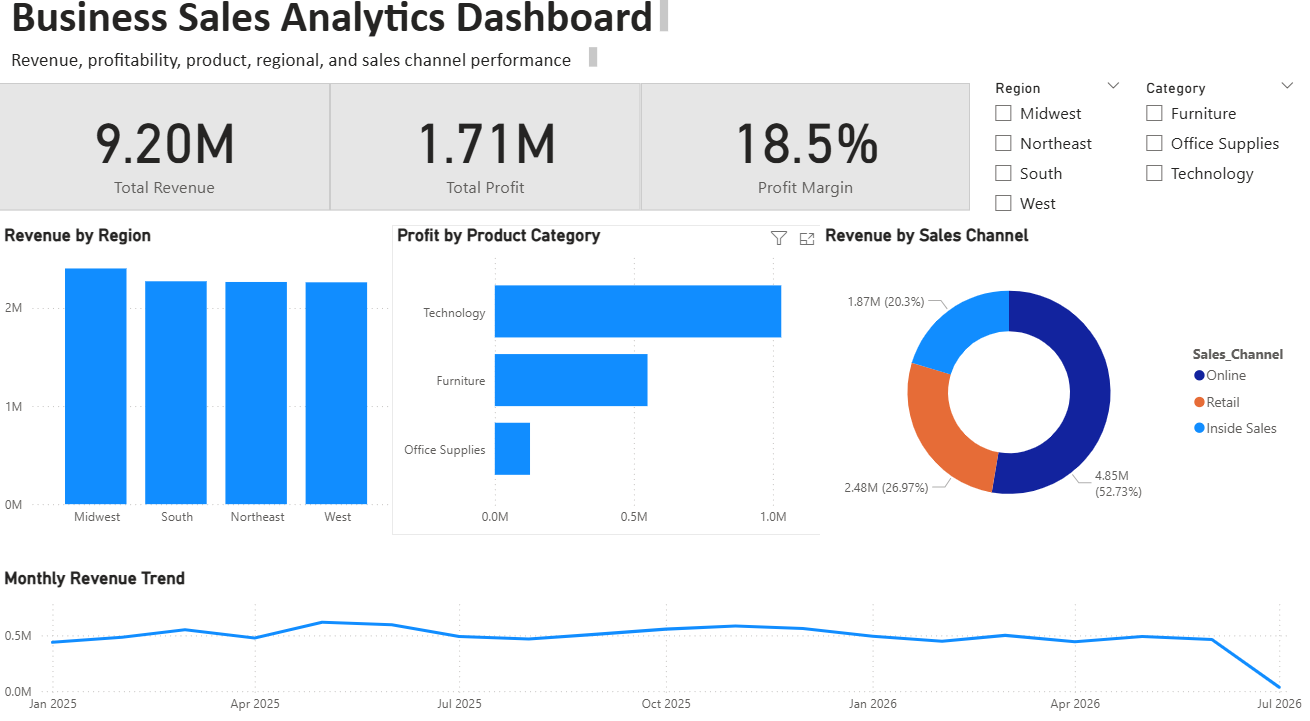

What the dashboard file says about the page in this screenshot:
{"tool":"powerbi","page":{"name":"Page 1","canvas":[1280,720],"ordinal":0},"visuals":[{"type":"card","fields":{"Values":["Sum(sales_transactions.Revenue)"]},"box":[0,98.2,321.9,124.5],"z":0},{"type":"card","fields":{"Values":["Sum(sales_transactions.Profit)"]},"box":[321.9,98.2,302.5,124.5],"z":1000},{"type":"card","fields":{"Values":["sales_transactions.Profit Margin"]},"box":[624.4,98.2,320,124.5],"z":2000},{"type":"clusteredColumnChart","title":"Revenue by Region","fields":{"Category":["sales_transactions.Region"],"Y":["Sum(sales_transactions.Revenue)"]},"box":[0,236.4,396.8,301.5],"z":3000},{"type":"clusteredBarChart","title":"Profit by Product Category","fields":{"Category":["sales_transactions.Category"],"Y":["Sum(sales_transactions.Profit)"]},"box":[382.2,236.4,443.5,301.5],"z":4000},{"type":"lineChart","title":"Monthly Revenue Trend","fields":{"Category":["sales_transactions.Order_Date.Variation.Date Hierarchy.Year","sales_transactions.Order_Date.Variation.Date Hierarchy.Quarter","sales_transactions.Order_Date.Variation.Date Hierarchy.Month","sales_transactions.Order_Date.Variation.Date Hierarchy.Day"],"Y":["Sum(sales_transactions.Revenue)"]},"box":[0,570,1272.2,149.8],"z":5000},{"type":"donutChart","title":"Revenue by Sales Channel","fields":{"Category":["sales_transactions.Sales_Channel"],"Y":["Sum(sales_transactions.Revenue)"]},"box":[798.5,236.4,473.7,306.4],"z":6000},{"type":"slicer","fields":{"Values":["sales_transactions.Region"]},"box":[956.1,89.5,146.9,146.9],"z":7000},{"type":"slicer","fields":{"Values":["sales_transactions.Category"]},"box":[1103,89.5,169.2,146.9],"z":8000},{"type":"textbox","box":[6.8,1.9,648.8,56.4],"z":9000},{"type":"textbox","box":[6.8,58.4,579.7,31.1],"z":10000}]}

Visuals, with their boxes in screenshot pixels (x1, y1, x2, y2), scaled from the page's 1280x720 canvas onto the 1310x721 screenshot:
card - Sum(sales_transactions.Revenue): box(0, 98, 329, 223)
card - Sum(sales_transactions.Profit): box(329, 98, 639, 223)
card - sales_transactions.Profit Margin: box(639, 98, 967, 223)
"Revenue by Region" clusteredColumnChart: box(0, 237, 406, 539)
"Profit by Product Category" clusteredBarChart: box(391, 237, 845, 539)
"Monthly Revenue Trend" lineChart: box(0, 571, 1302, 720)
"Revenue by Sales Channel" donutChart: box(817, 237, 1302, 544)
slicer - sales_transactions.Region: box(979, 90, 1129, 237)
slicer - sales_transactions.Category: box(1129, 90, 1302, 237)
textbox: box(7, 2, 671, 58)
textbox: box(7, 58, 600, 90)
